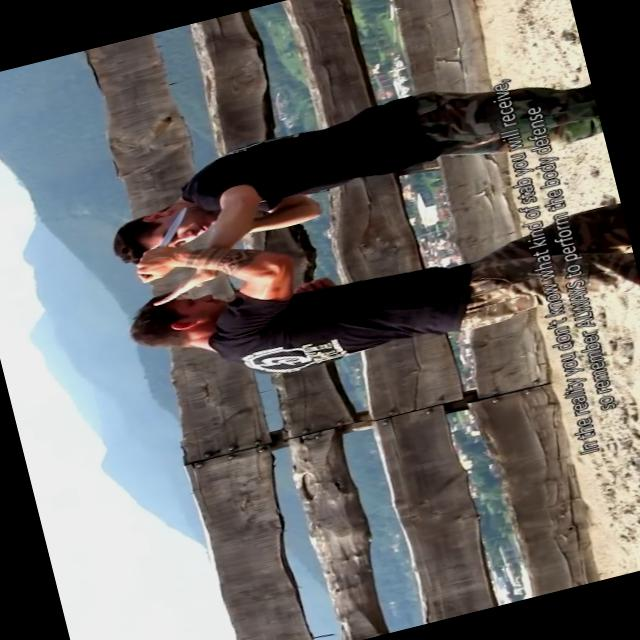knife: (118, 201, 205, 285)
